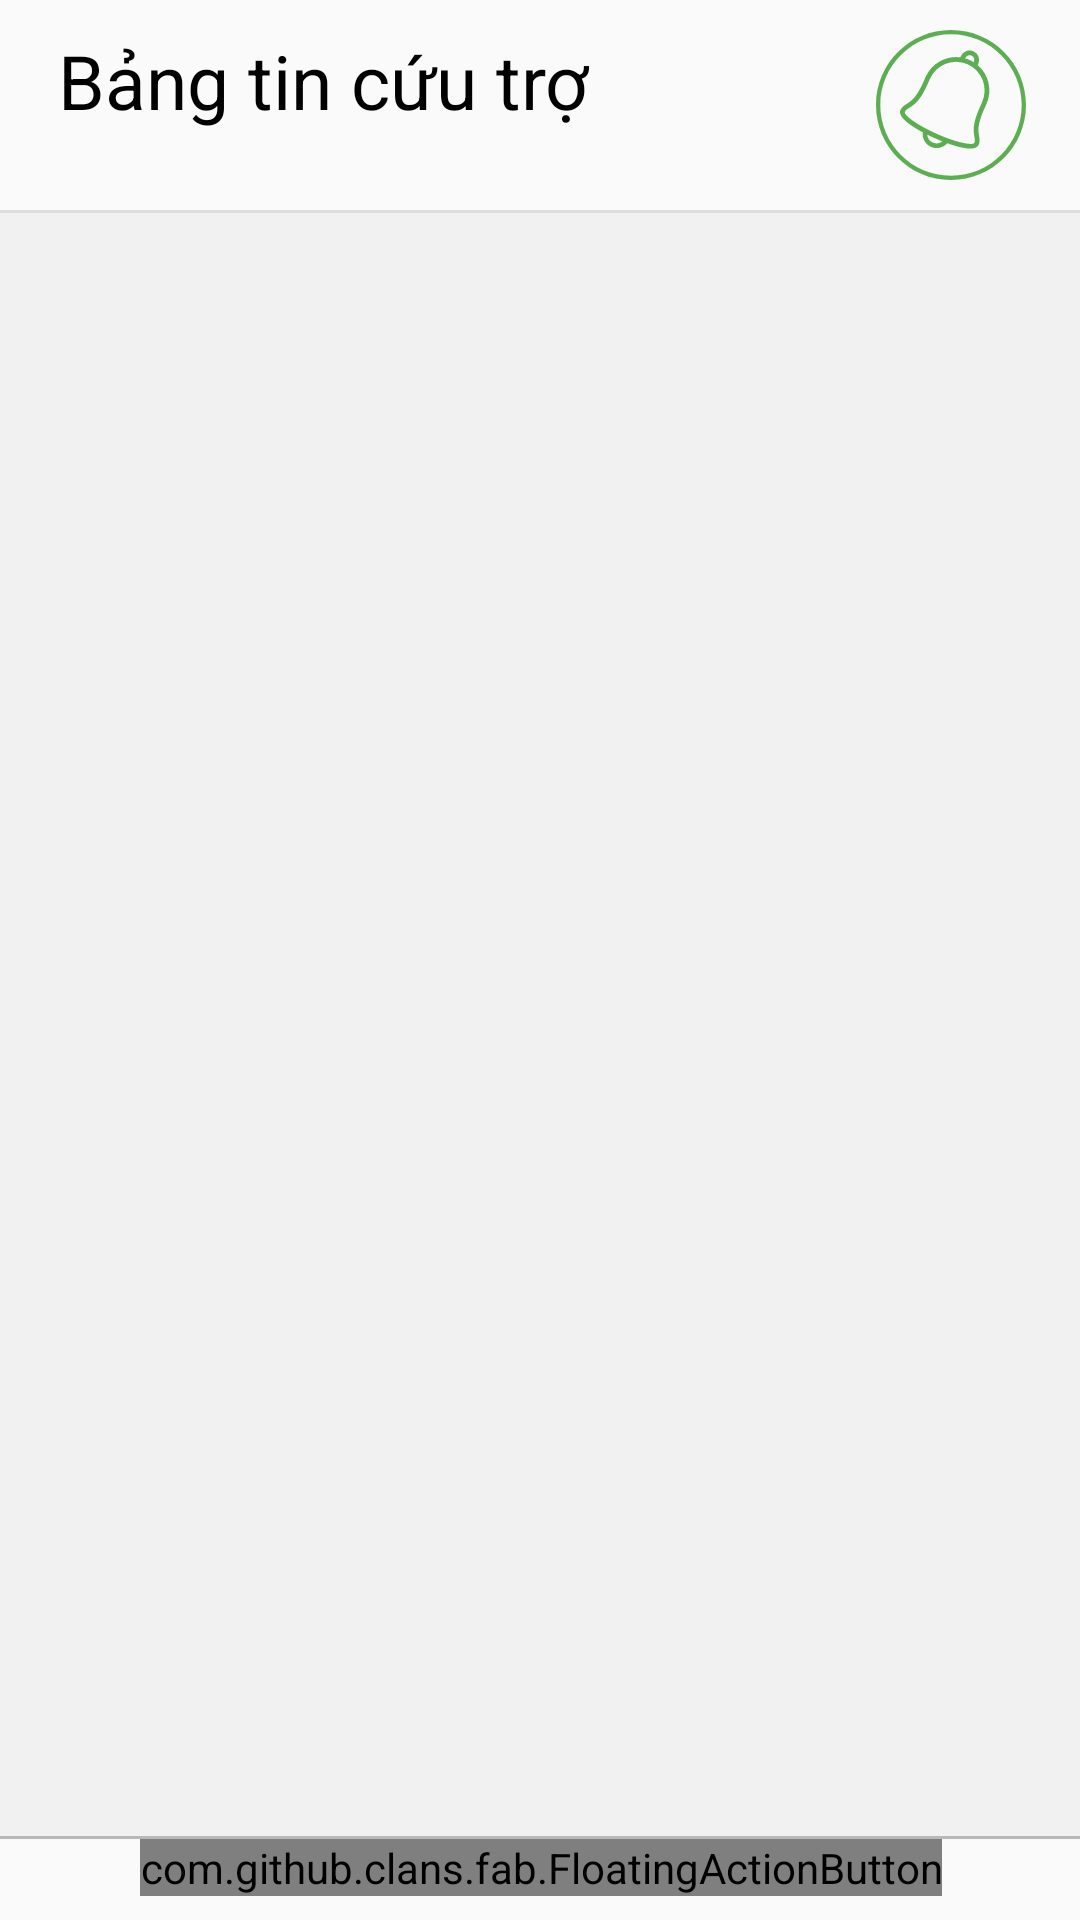

Where icons sit on this 1080w x 1920h app screen, as {"left": x1, "top": y1, "right": x2, "bottom": y2}:
bell circle: {"left": 876, "top": 30, "right": 1026, "bottom": 180}
